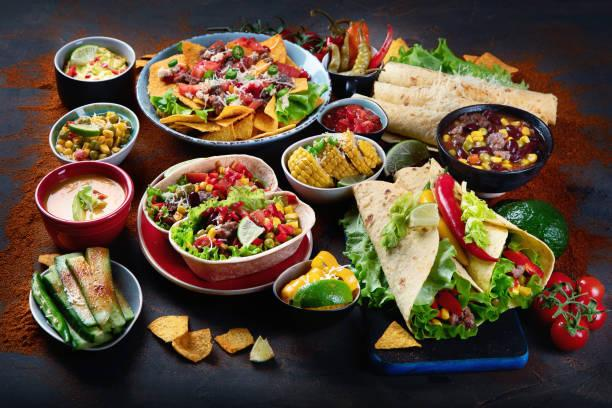Braised Crucian Carp: (137, 156, 308, 293), (134, 31, 325, 151), (435, 104, 554, 197)
